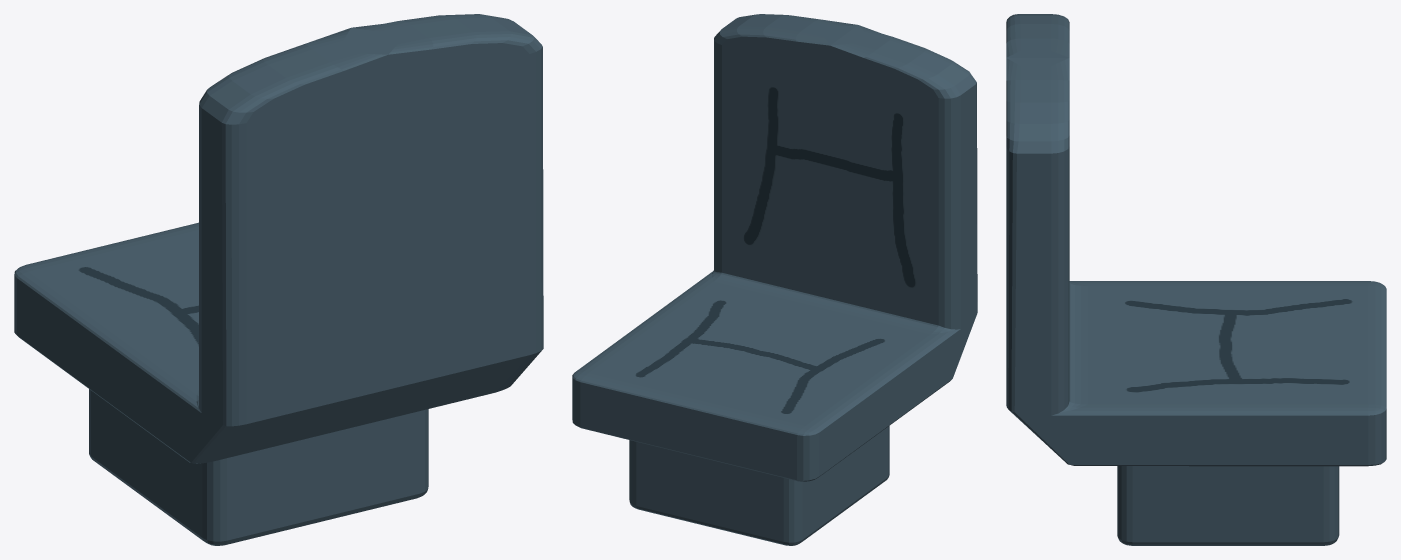
Rendered from Navigation-chair.glb.
3 renders of one model, left to right at view 1: azimuth 30°, elevation 25°; view 2: azimuth 150°, elevation 25°; view 3: azimuth 270°, elevation 25°, orthographic. The views are drawn at different scales.
Parts seen in each view (by area): view 1: Cube.002; view 2: Cube.002; view 3: Cube.002.
Boxes of the visible parts, box(x1,y1,x2,y2) form: Cube.002: box(14, 14, 543, 545); Cube.002: box(572, 14, 977, 545); Cube.002: box(1006, 14, 1386, 545).
Bounding box in the file's own units: 2 × 3.1 × 2.4.
Materials: 1 (1 with a texture image).
